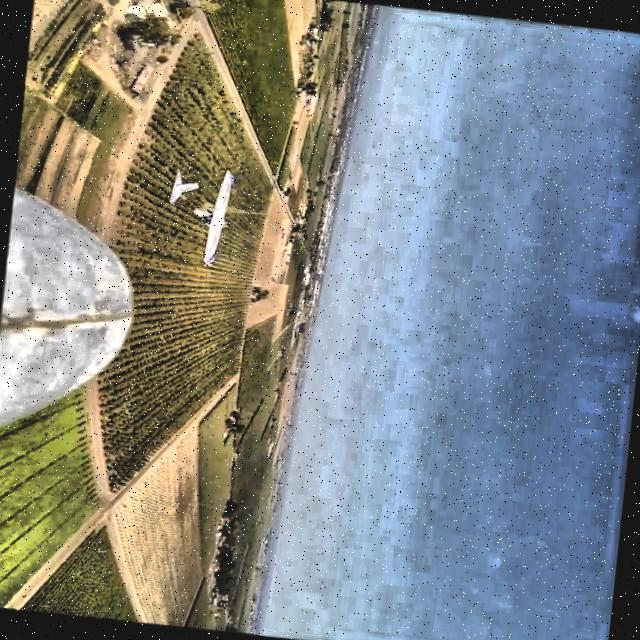iha: (188, 189, 208, 247)
